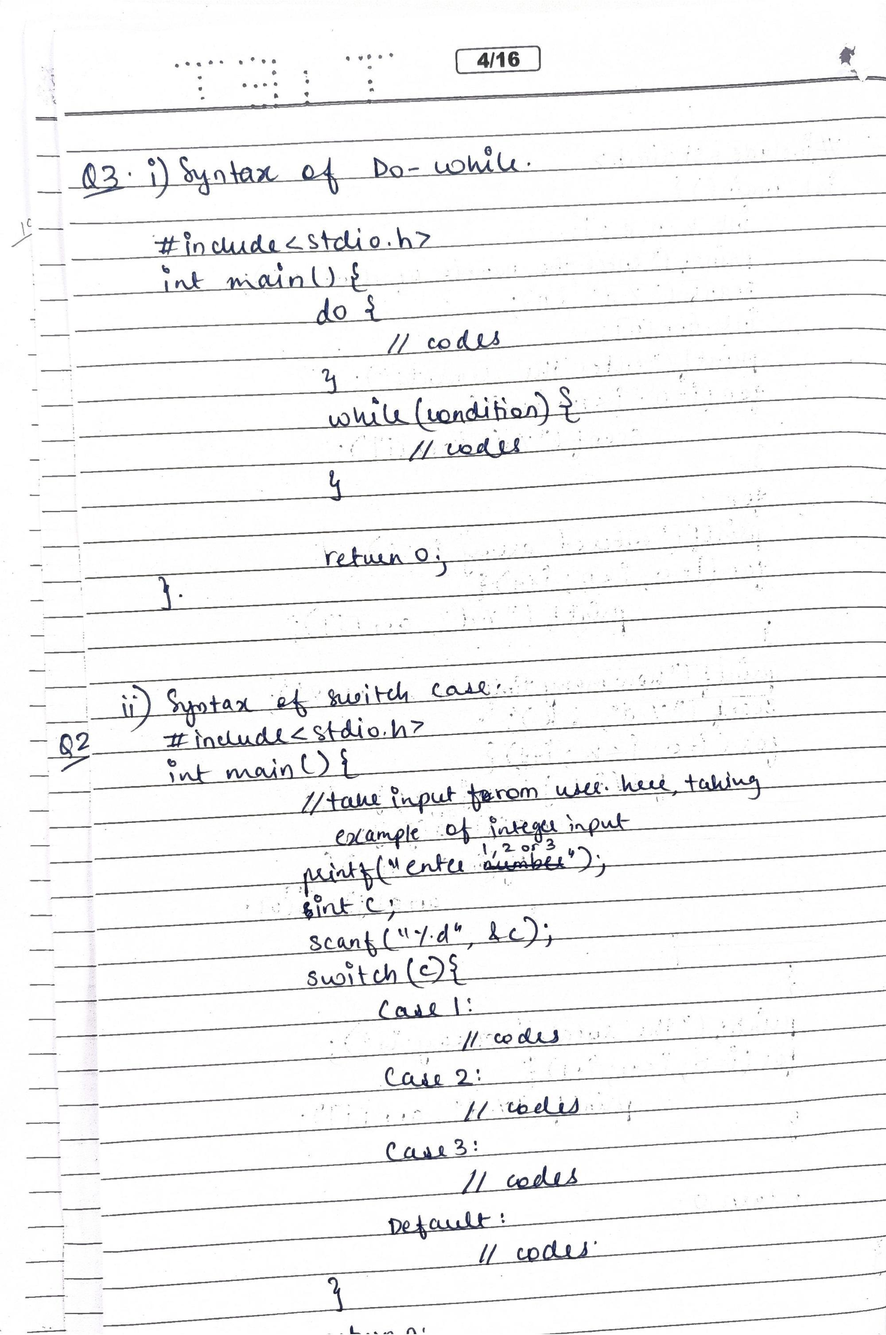cuttings: (482, 850, 569, 873), (301, 901, 314, 921)
